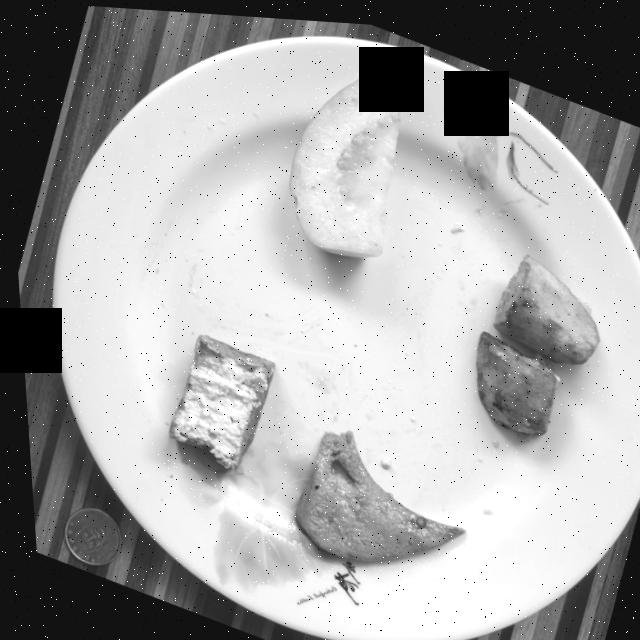coin: (56, 507, 113, 565)
egg tofu: (162, 332, 269, 468)
fried potato: (471, 248, 594, 427)
guava -sliced-: (286, 45, 413, 253)
pig liver: (288, 427, 457, 557)
